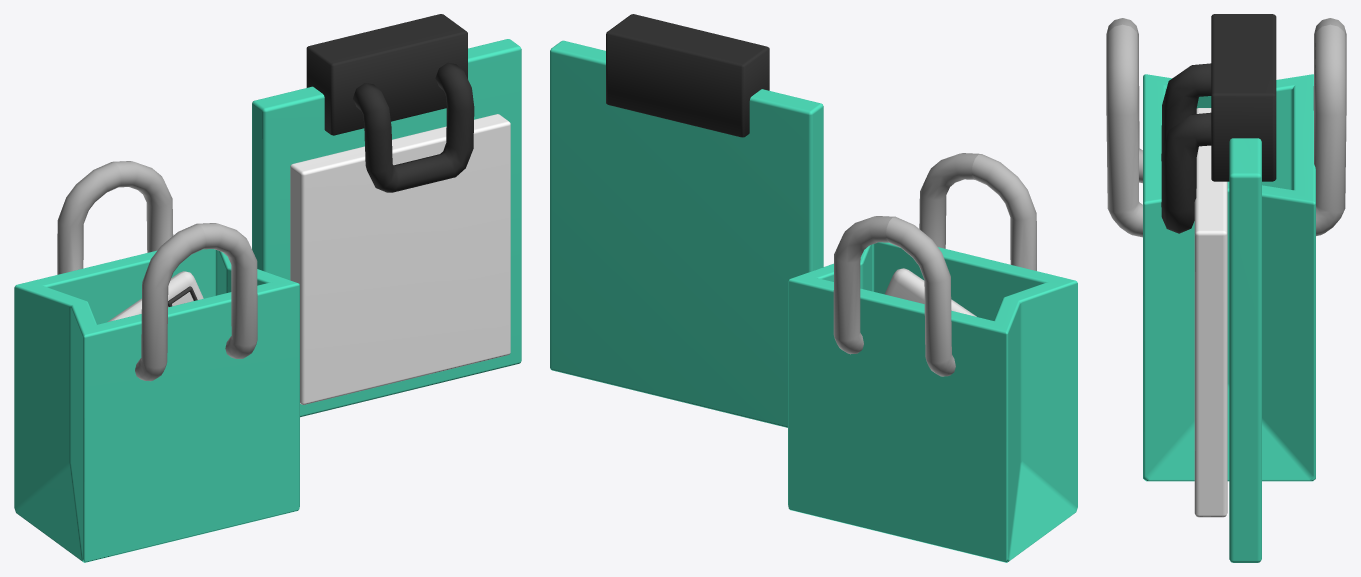
The model's file is qrCODE_anim.fbx.
3 renders of one model, left to right at view 1: azimuth 30°, elevation 25°; view 2: azimuth 150°, elevation 25°; view 3: azimuth 270°, elevation 25°, orthographic. The views are drawn at different scales.
Visible parts, largest first — view 1: polySurface2, bag_Куб_Куб.001, QR_Code; view 2: polySurface2, bag_Куб_Куб.001, QR_Code; view 3: bag_Куб_Куб.001, polySurface2.
Part boxes in pixels (x1,y1,x2,y2): polySurface2: [252, 14, 521, 417]; bag_Куб_Куб.001: [14, 161, 299, 562]; QR_Code: [107, 271, 203, 322]; polySurface2: [550, 14, 823, 427]; bag_Куб_Куб.001: [788, 153, 1077, 562]; QR_Code: [885, 268, 976, 316]; bag_Куб_Куб.001: [1106, 18, 1346, 481]; polySurface2: [1161, 14, 1276, 562].
Size of the model in its own units: 381 by 317 by 136.
